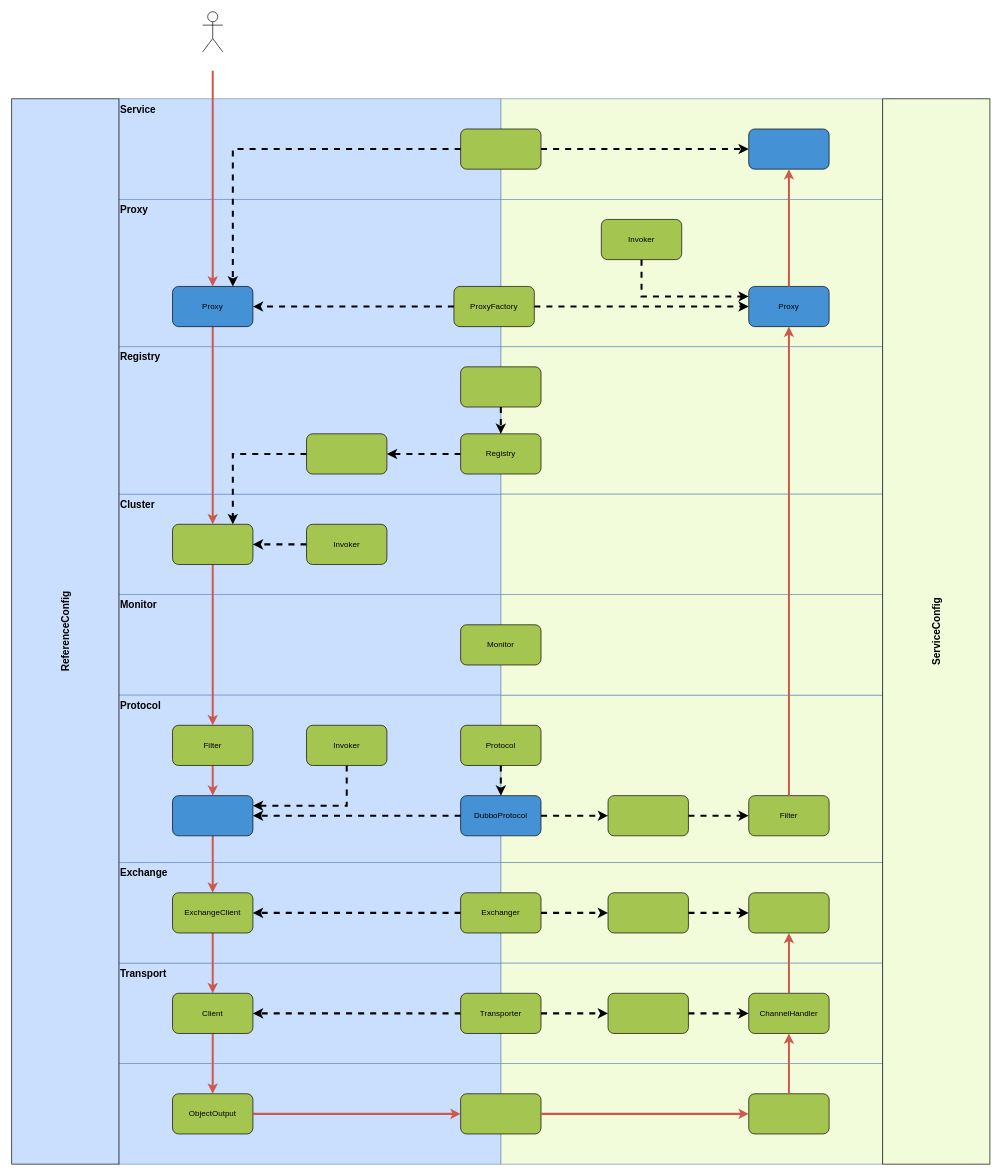
The diagram is 1002 pixels wide and 1176 high, and some of its shapes have lost their labels. Each missing label, with the box of its shape:
Actor: (202, 11, 223, 52)
DubboInvoker: (172, 795, 253, 836)
ExchangHandler: (748, 892, 829, 933)
ExchangServer: (607, 892, 688, 933)
Exporter: (607, 795, 688, 836)
Implement: (748, 128, 829, 169)
Interface: (460, 128, 541, 169)
LoadBalance: (172, 524, 253, 564)
NotifyListener: (306, 433, 387, 474)
ObjectInput: (748, 1093, 829, 1134)
RegistryFactory: (460, 366, 541, 407)
Serialization: (460, 1093, 541, 1134)
Serialize: (118, 1063, 501, 1164)
Server: (607, 993, 688, 1033)
